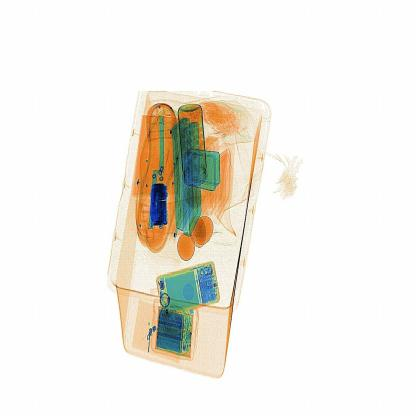scissors: (143, 177, 175, 233)
